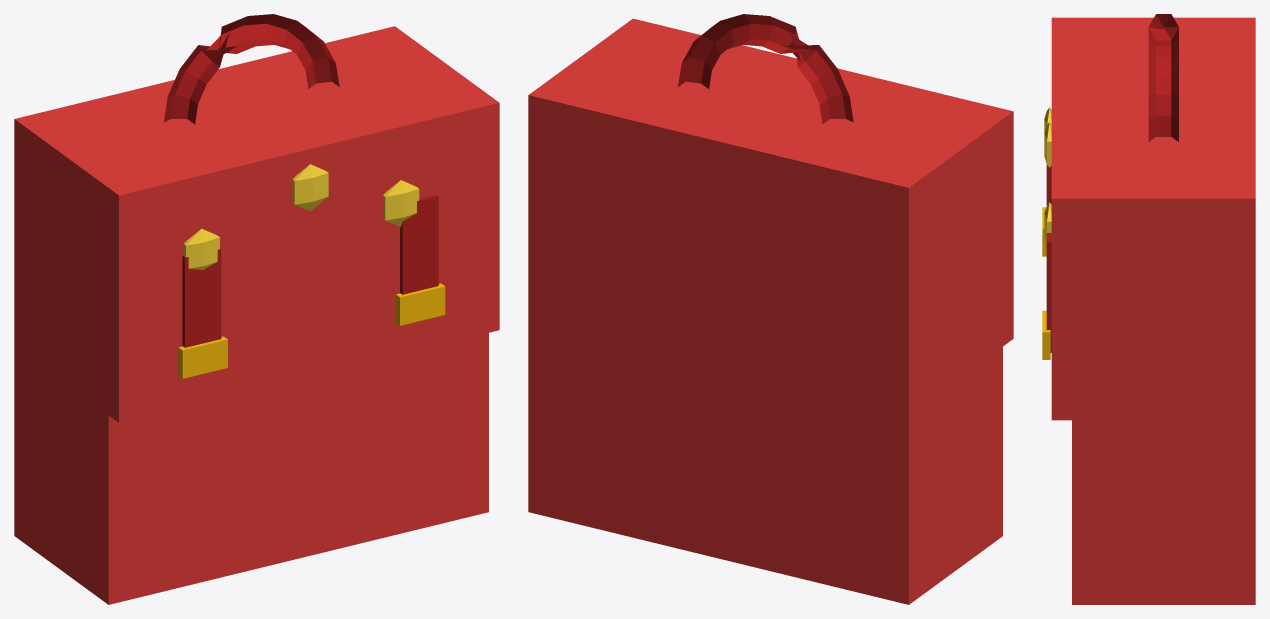
File: skolvaska.glb
3 views of the same model, side by side, from view 1: azimuth 30°, elevation 25°; view 2: azimuth 150°, elevation 25°; view 3: azimuth 270°, elevation 25° (orthographic). The views are drawn at different scales.
Parts seen in each view (by area): view 1: skolvaska; view 2: skolvaska; view 3: skolvaska.
Boxes of the visible parts, x1,y1,x2,y2 form: skolvaska: (14,14,499,604); skolvaska: (528,14,1013,604); skolvaska: (1042,14,1255,604).
Bounding box in the file's own units: 0.42 × 0.533 × 0.209.
